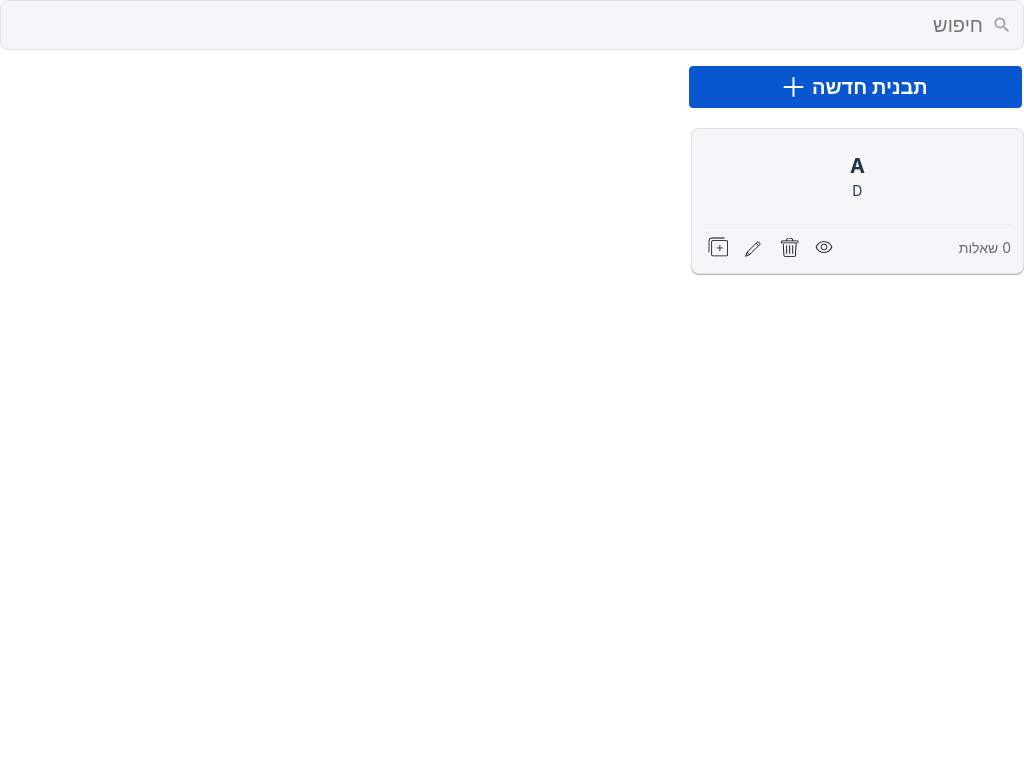
Test: Questions › loads collections and opens preview popup
Note: Find the preview button by its aria-label
Click the button named "תצוגה מקדימה" at (824, 247), box [811,237,837,257]
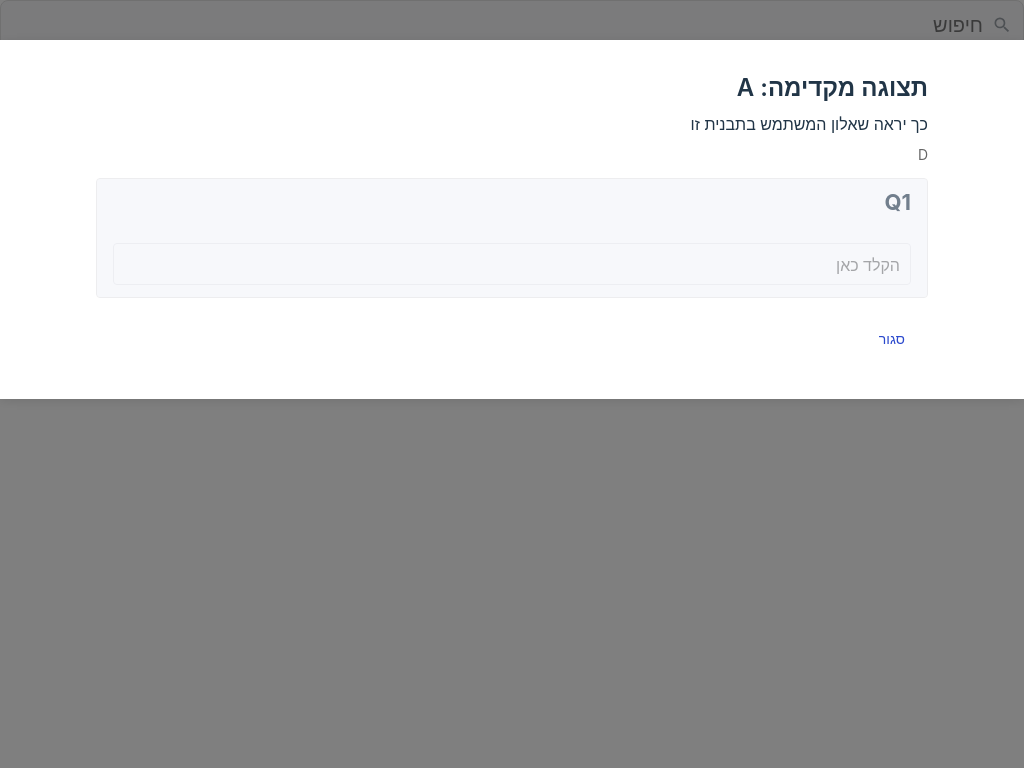
Check: the dialog is shown
Check: the text "Q1" is shown, box [884,189,911,215]
